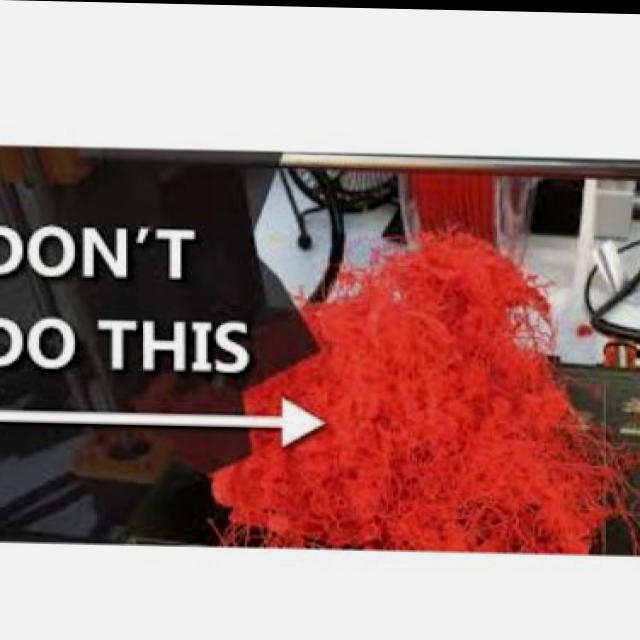spaghetti: (224, 233, 640, 550)
